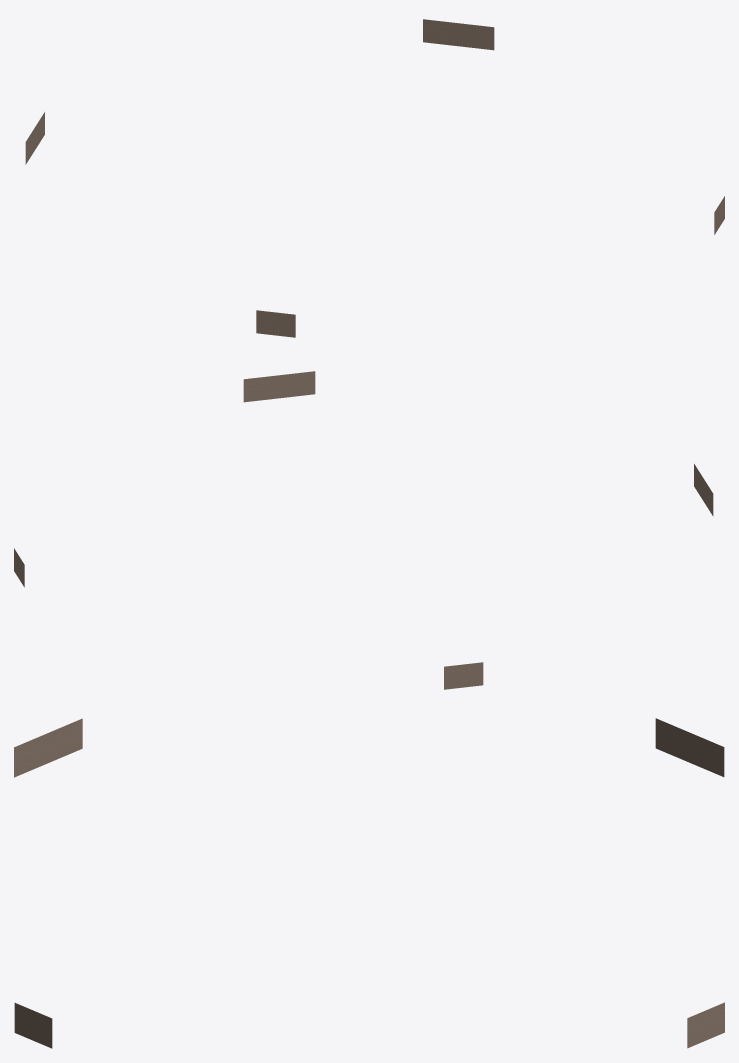
File: kd_stage_135b75_4_124.glb
The picture shows the model from 3 angles, top to bottom: view 1: azimuth 30°, elevation 25°; view 2: azimuth 150°, elevation 25°; view 3: azimuth 270°, elevation 25°; orthographic projection. The views are drawn at different scales.
Visible parts, largest first — view 1: kd_stage_135b75_4_124; view 2: kd_stage_135b75_4_124; view 3: kd_stage_135b75_4_124.
Part boxes in pixels (x1=…): kd_stage_135b75_4_124: x1=25, y1=19, x2=724, y2=337; kd_stage_135b75_4_124: x1=14, y1=371, x2=713, y2=689; kd_stage_135b75_4_124: x1=14, y1=718, x2=724, y2=1048.
Bounding box in the file's own units: 0.9768 × 0.0459 × 0.9768.
Materials: 1 (1 with a texture image).
